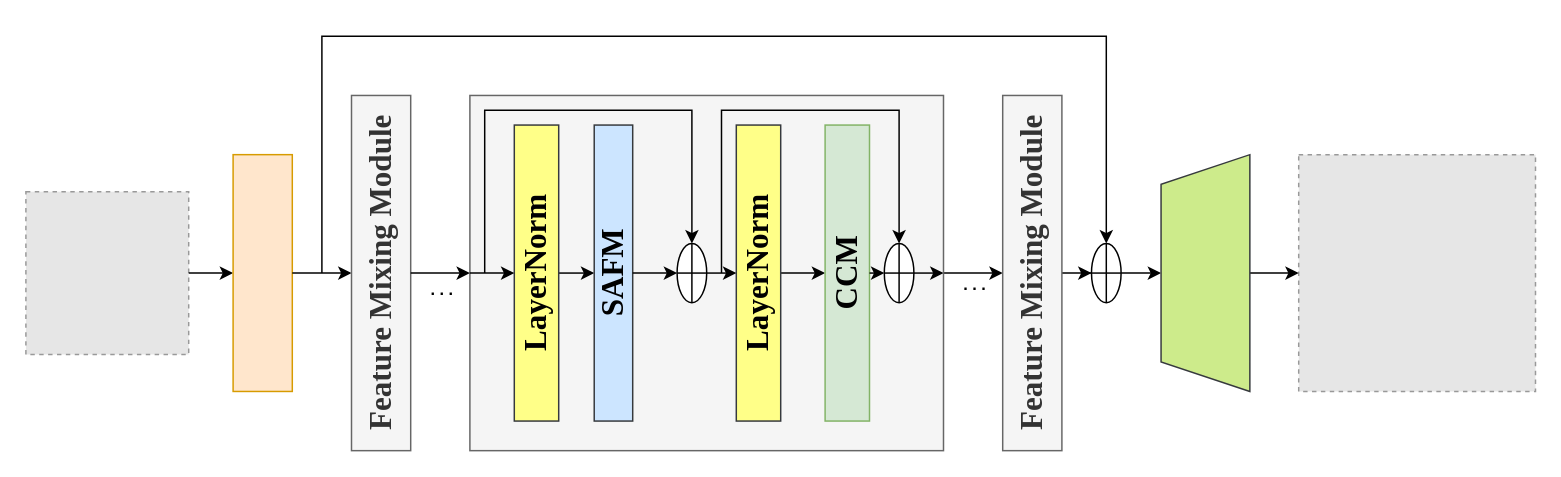
Image size: 1561x477. Some labels were removed from this diagram. Grey dashed boxes stand in for pictures. Here are the shapes that lost their labels. From the top down, the centre of each, then its label:
At (x=262, y=272): "Conv3X3".
At (x=1205, y=272): "Upsampler".
